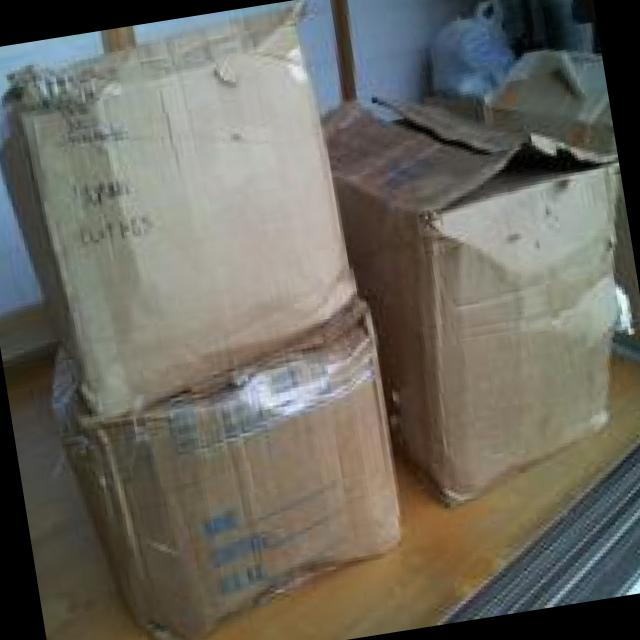box: (85, 73, 566, 558)
